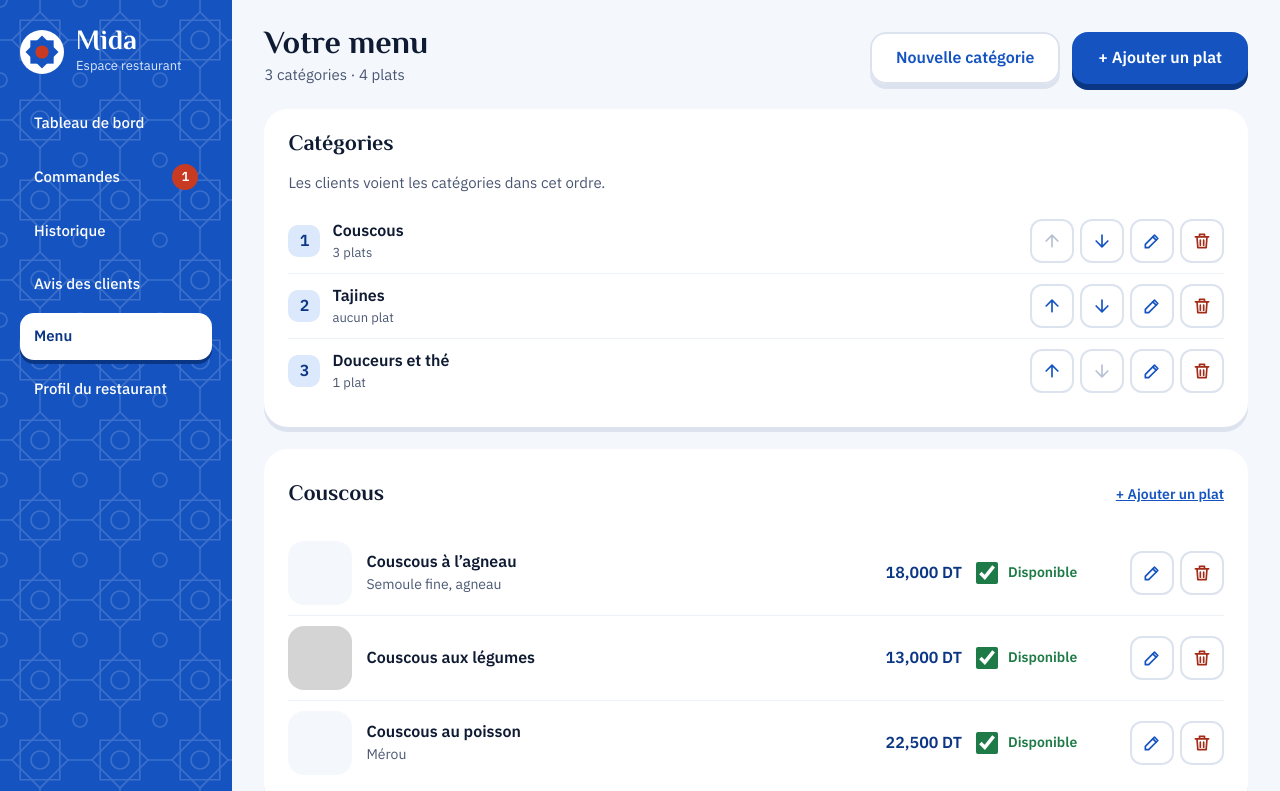
menu : catégories (US09) › change l’ordre d’affichage
Click the button named "Monter Douceurs et thé": (1052, 371) x1=1030 y1=349 x2=1074 y2=393
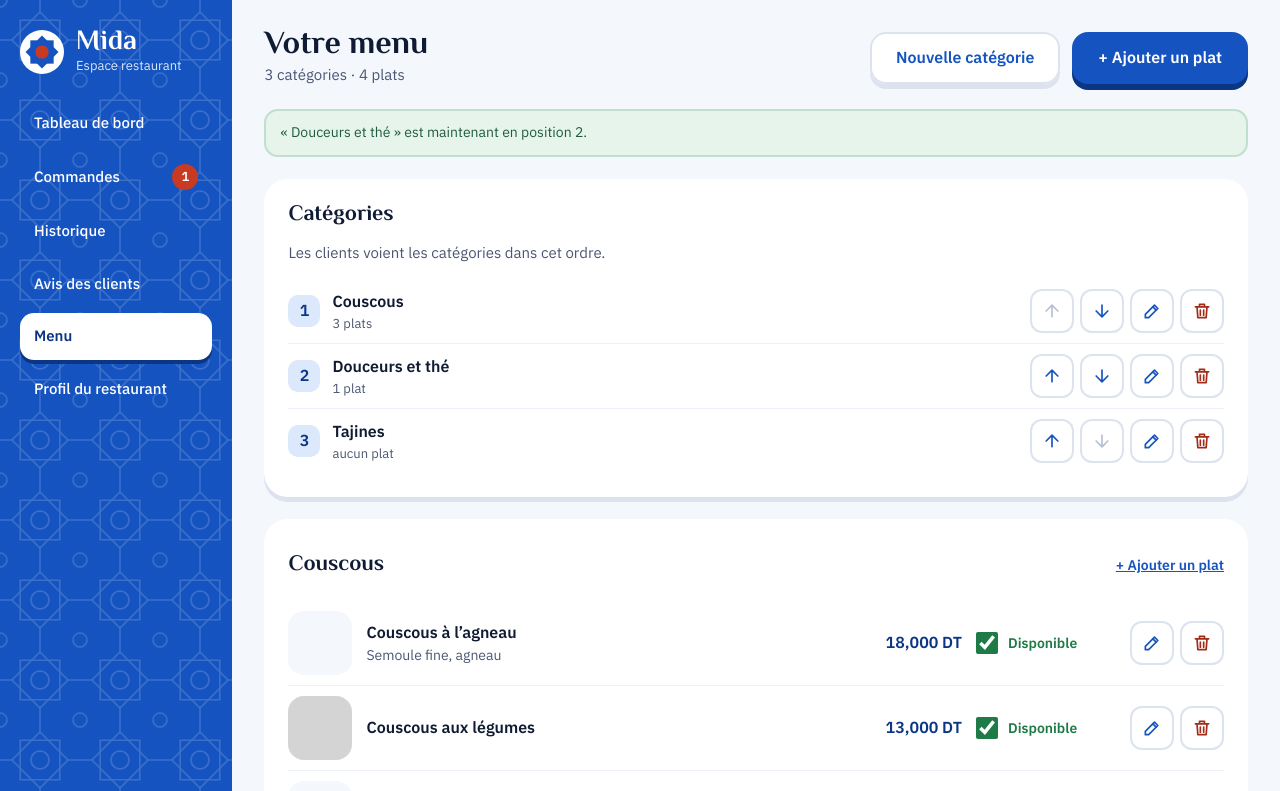
Expected: the message shows "« Douceurs et thé » est maintenant en position 2", x1=280 y1=122 x2=587 y2=143
